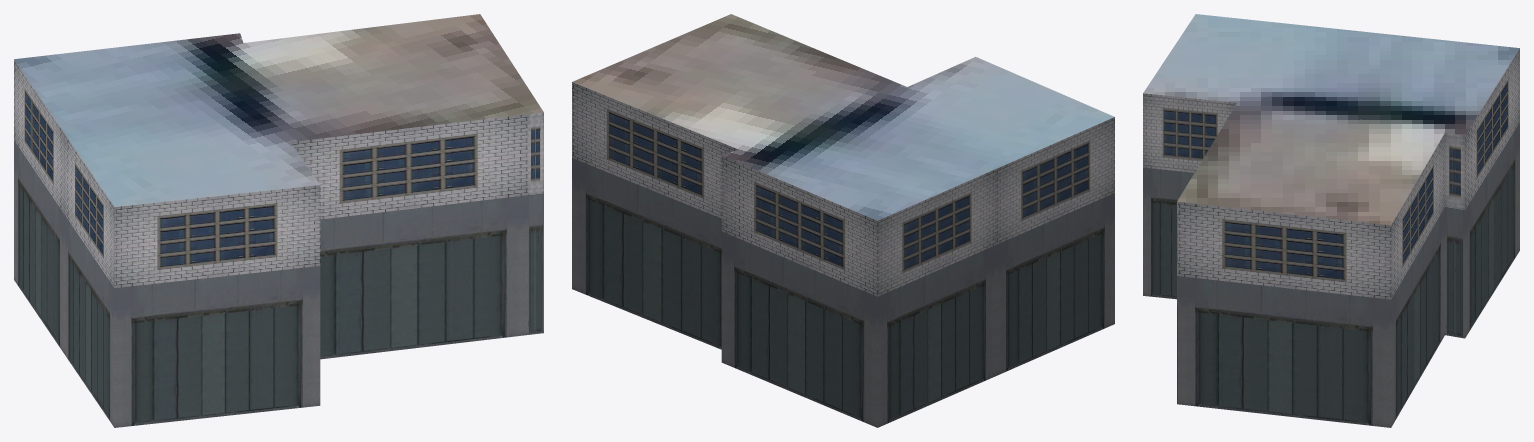
The model's file is T_1T3D54NUKQ.dae.
The picture shows the model from 3 angles, left to right: view 1: azimuth 30°, elevation 25°; view 2: azimuth 150°, elevation 25°; view 3: azimuth 270°, elevation 25°; orthographic projection. The views are drawn at different scales.
Visible parts, largest first — view 1: SketchUp (×9); view 2: SketchUp (×7); view 3: SketchUp (×11).
Boxes of the visible parts, <box> form: SketchUp (×9): <box>14,14,543,427</box>; SketchUp (×7): <box>572,14,1114,427</box>; SketchUp (×11): <box>1143,14,1519,427</box>.
Size of the model in its own units: 11.66 by 8.79 by 5.21.
3 materials, 3 textured.
